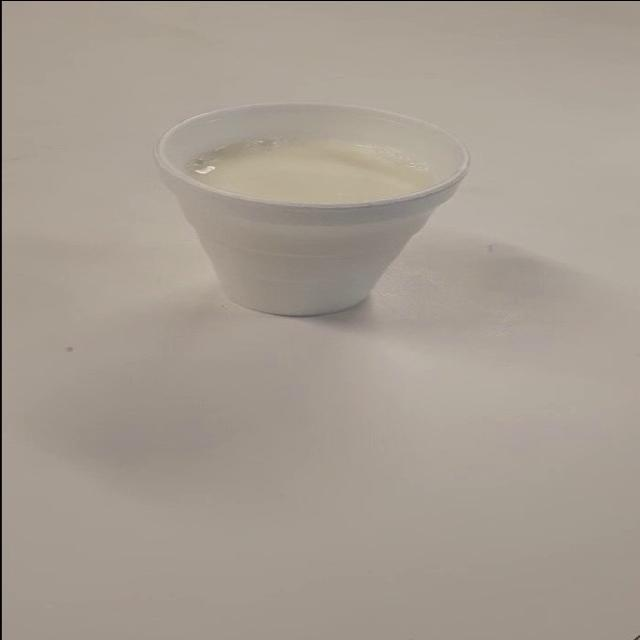Milk: (120, 79, 498, 349)
